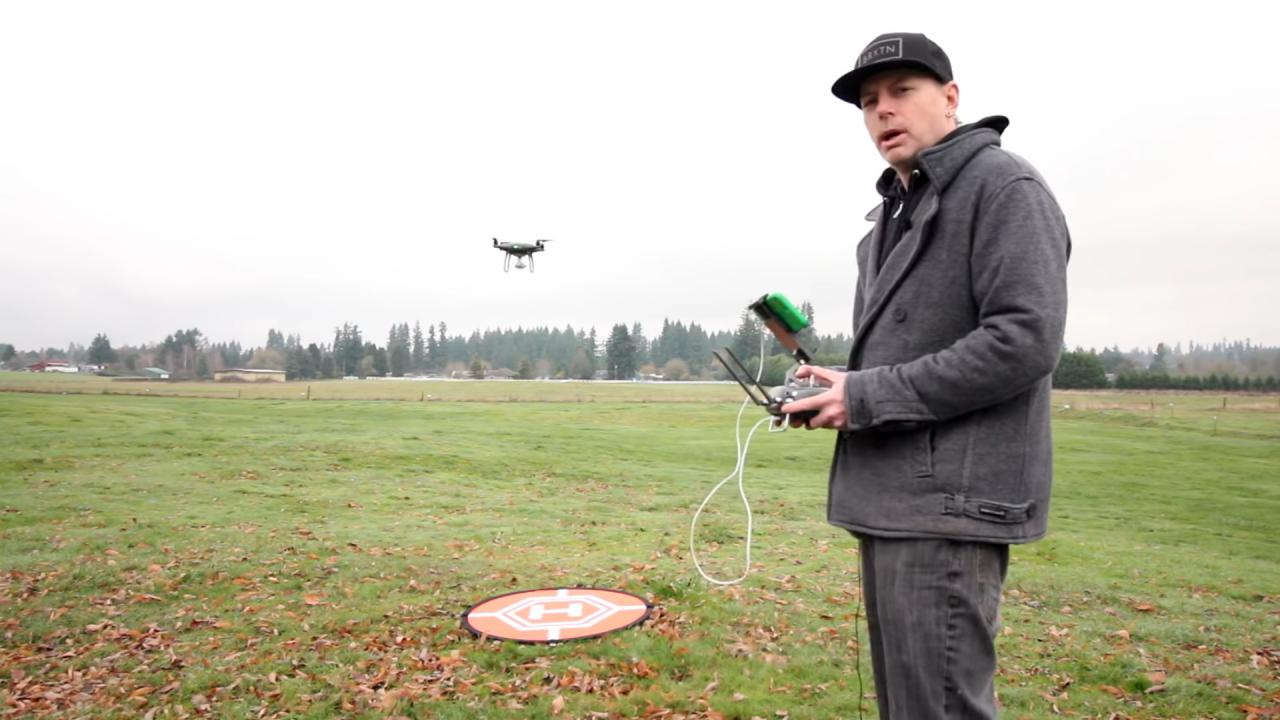Drone: (476, 231, 564, 282)
